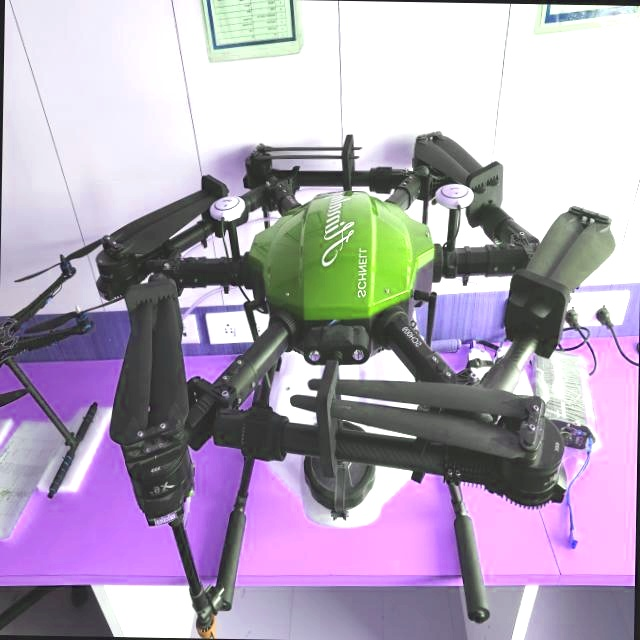agriculturedrone: (45, 113, 624, 640)
